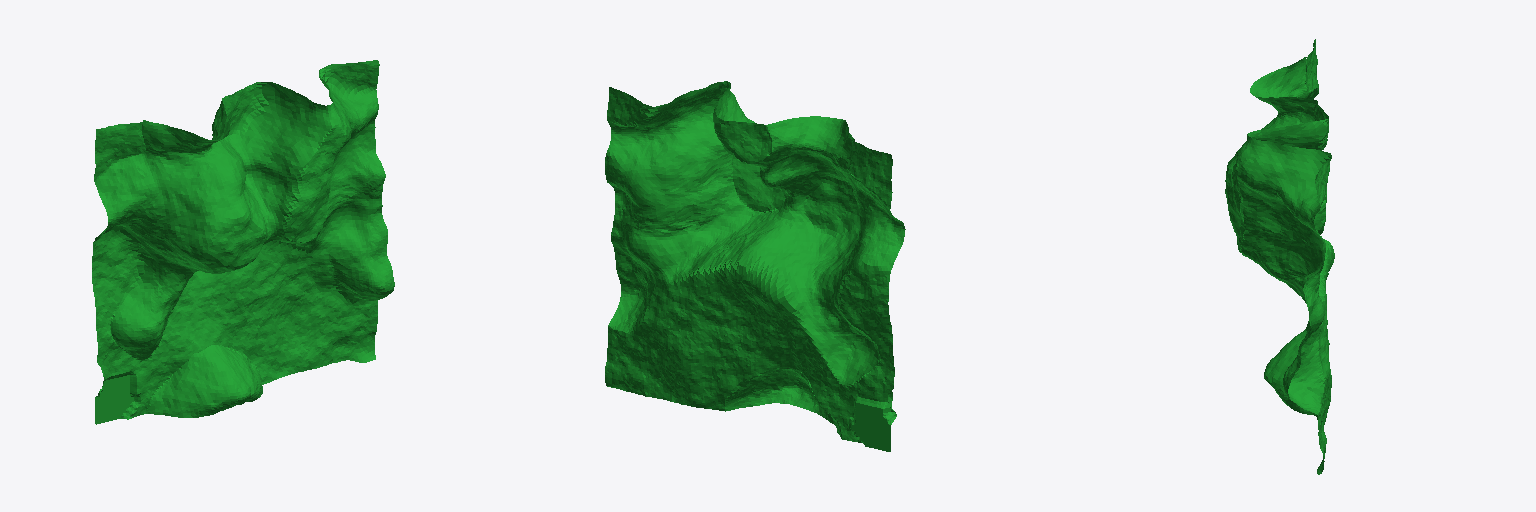
The model's file is ground.obj.
3 renders of one model, left to right at view 1: azimuth 30°, elevation 25°; view 2: azimuth 150°, elevation 25°; view 3: azimuth 270°, elevation 25°, orthographic.
Parts seen in each view (by area): view 1: ground_Plane; view 2: ground_Plane; view 3: ground_Plane.
Part boxes in pixels (bbox=[...]): ground_Plane: bbox=[92, 60, 394, 424]; ground_Plane: bbox=[605, 81, 905, 451]; ground_Plane: bbox=[1225, 39, 1334, 474].
Size of the model in its own units: 64.97 by 65.78 by 21.51.